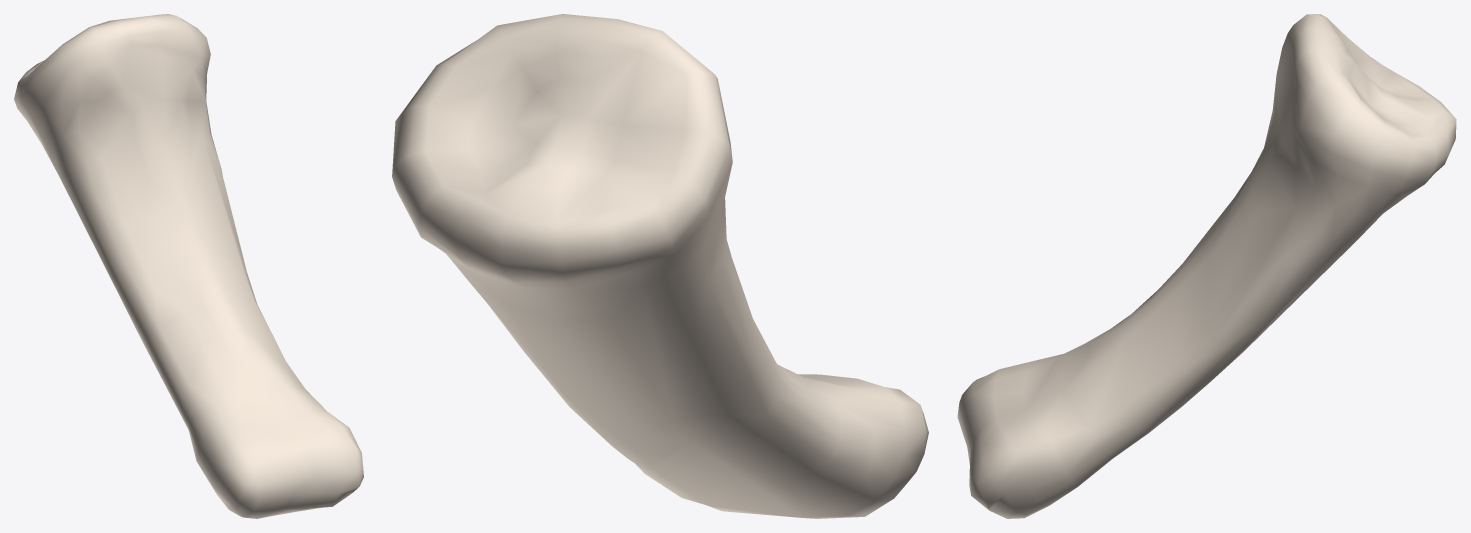
File: left_digit_4_middle.glb
3 renders of one model, left to right at view 1: azimuth 30°, elevation 25°; view 2: azimuth 150°, elevation 25°; view 3: azimuth 270°, elevation 25°, orthographic. The views are drawn at different scales.
Visible parts, largest first — view 1: Middle phalanx of 4th finger.r; view 2: Middle phalanx of 4th finger.r; view 3: Middle phalanx of 4th finger.r.
Boxes of the visible parts, x1,y1,x2,y2 form: Middle phalanx of 4th finger.r: [14, 14, 363, 518]; Middle phalanx of 4th finger.r: [392, 14, 928, 518]; Middle phalanx of 4th finger.r: [957, 14, 1456, 518].
Size of the model in its own units: 0.0115 by 0.0245 by 0.0247.
